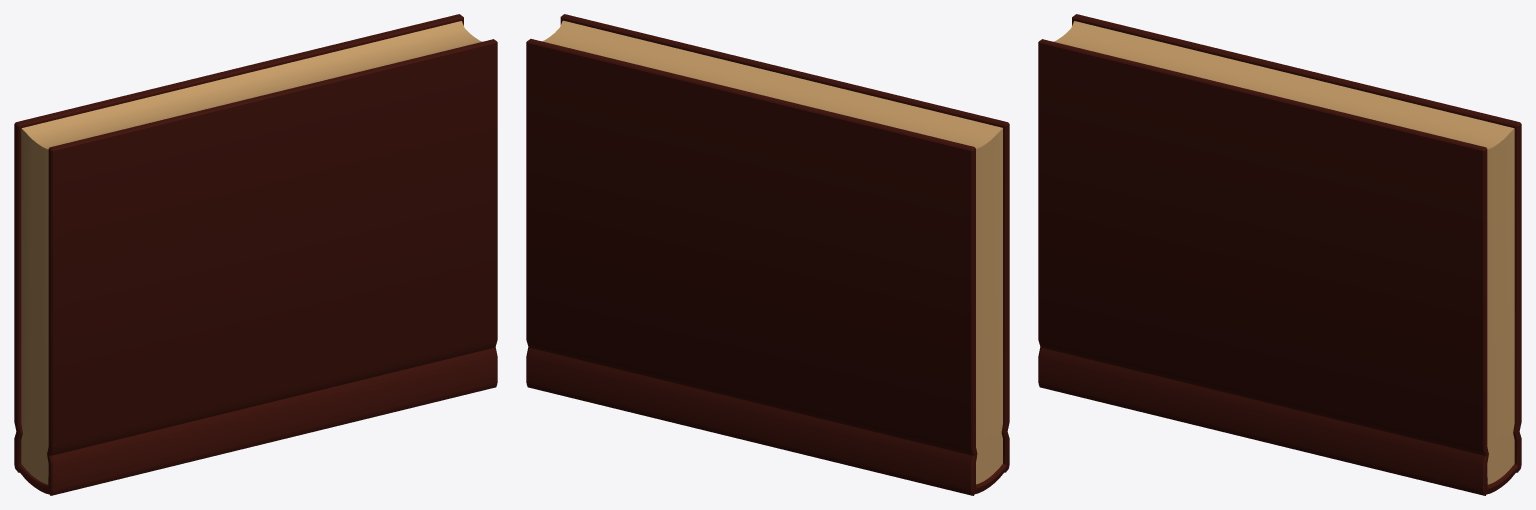
File: models book.obj
The picture shows the model from 3 angles, left to right: view 1: azimuth 30°, elevation 25°; view 2: azimuth 150°, elevation 25°; view 3: azimuth 330°, elevation 25°; orthographic projection.
Bounding box in the file's own units: 41.69 × 31.52 × 6.15.
